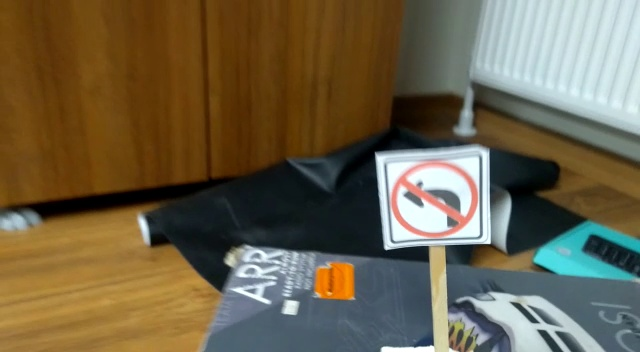sola_donulmez: (388, 151, 482, 244)
